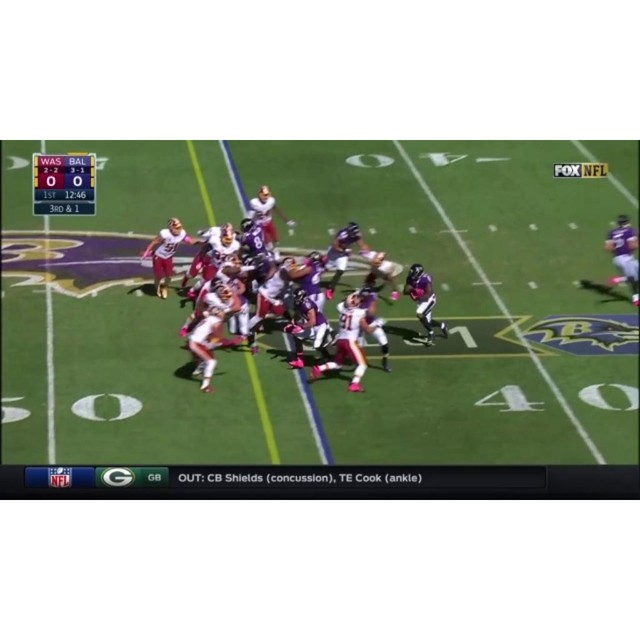american-football-player: (310, 293, 371, 393), (282, 288, 336, 371), (140, 217, 194, 299), (184, 303, 232, 392), (246, 259, 292, 350), (403, 263, 449, 347), (600, 214, 640, 305), (355, 284, 392, 374), (322, 220, 367, 292), (216, 273, 255, 351), (244, 185, 287, 251), (365, 250, 404, 300), (239, 218, 273, 260)
